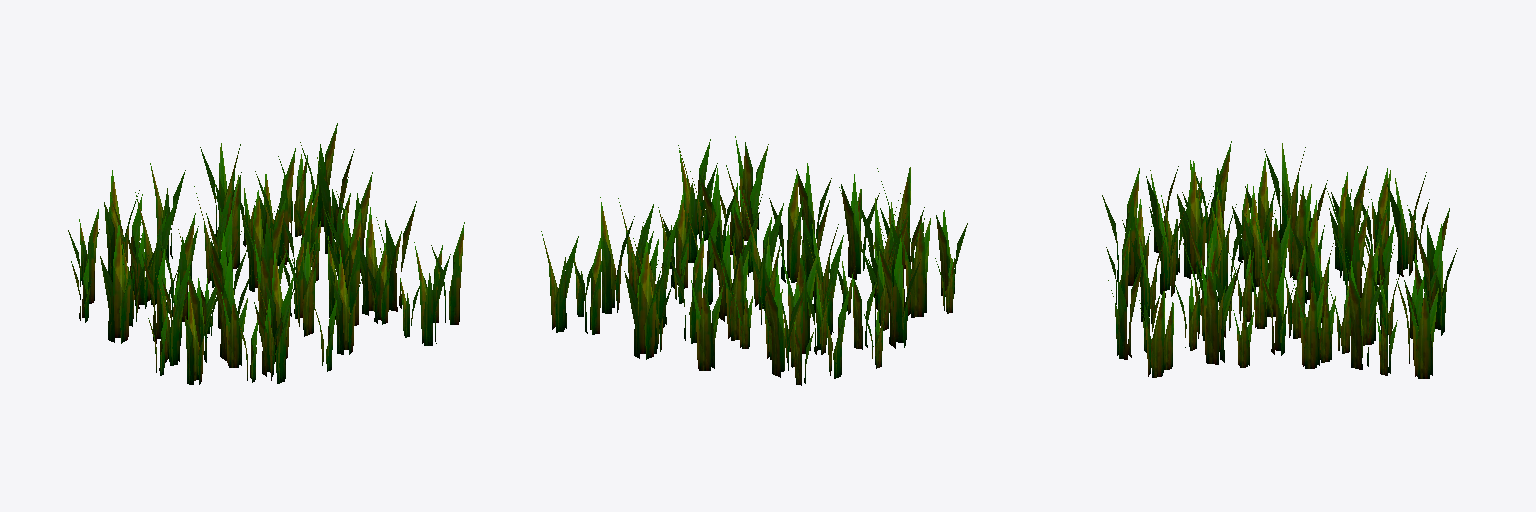
The picture shows the model from 3 angles: view 1: azimuth 30°, elevation 25°; view 2: azimuth 150°, elevation 25°; view 3: azimuth 270°, elevation 25°; orthographic projection.
Parts seen in each view (by area): view 1: grass; view 2: grass; view 3: grass.
Boxes of the visible parts, box(x1,y1,x2,y2) form: grass: box(68, 123, 464, 384); grass: box(541, 136, 967, 385); grass: box(1102, 141, 1457, 378).
Size of the model in its own units: 4.25 by 1.42 by 4.25.
Materials: 1 (1 with a texture image).